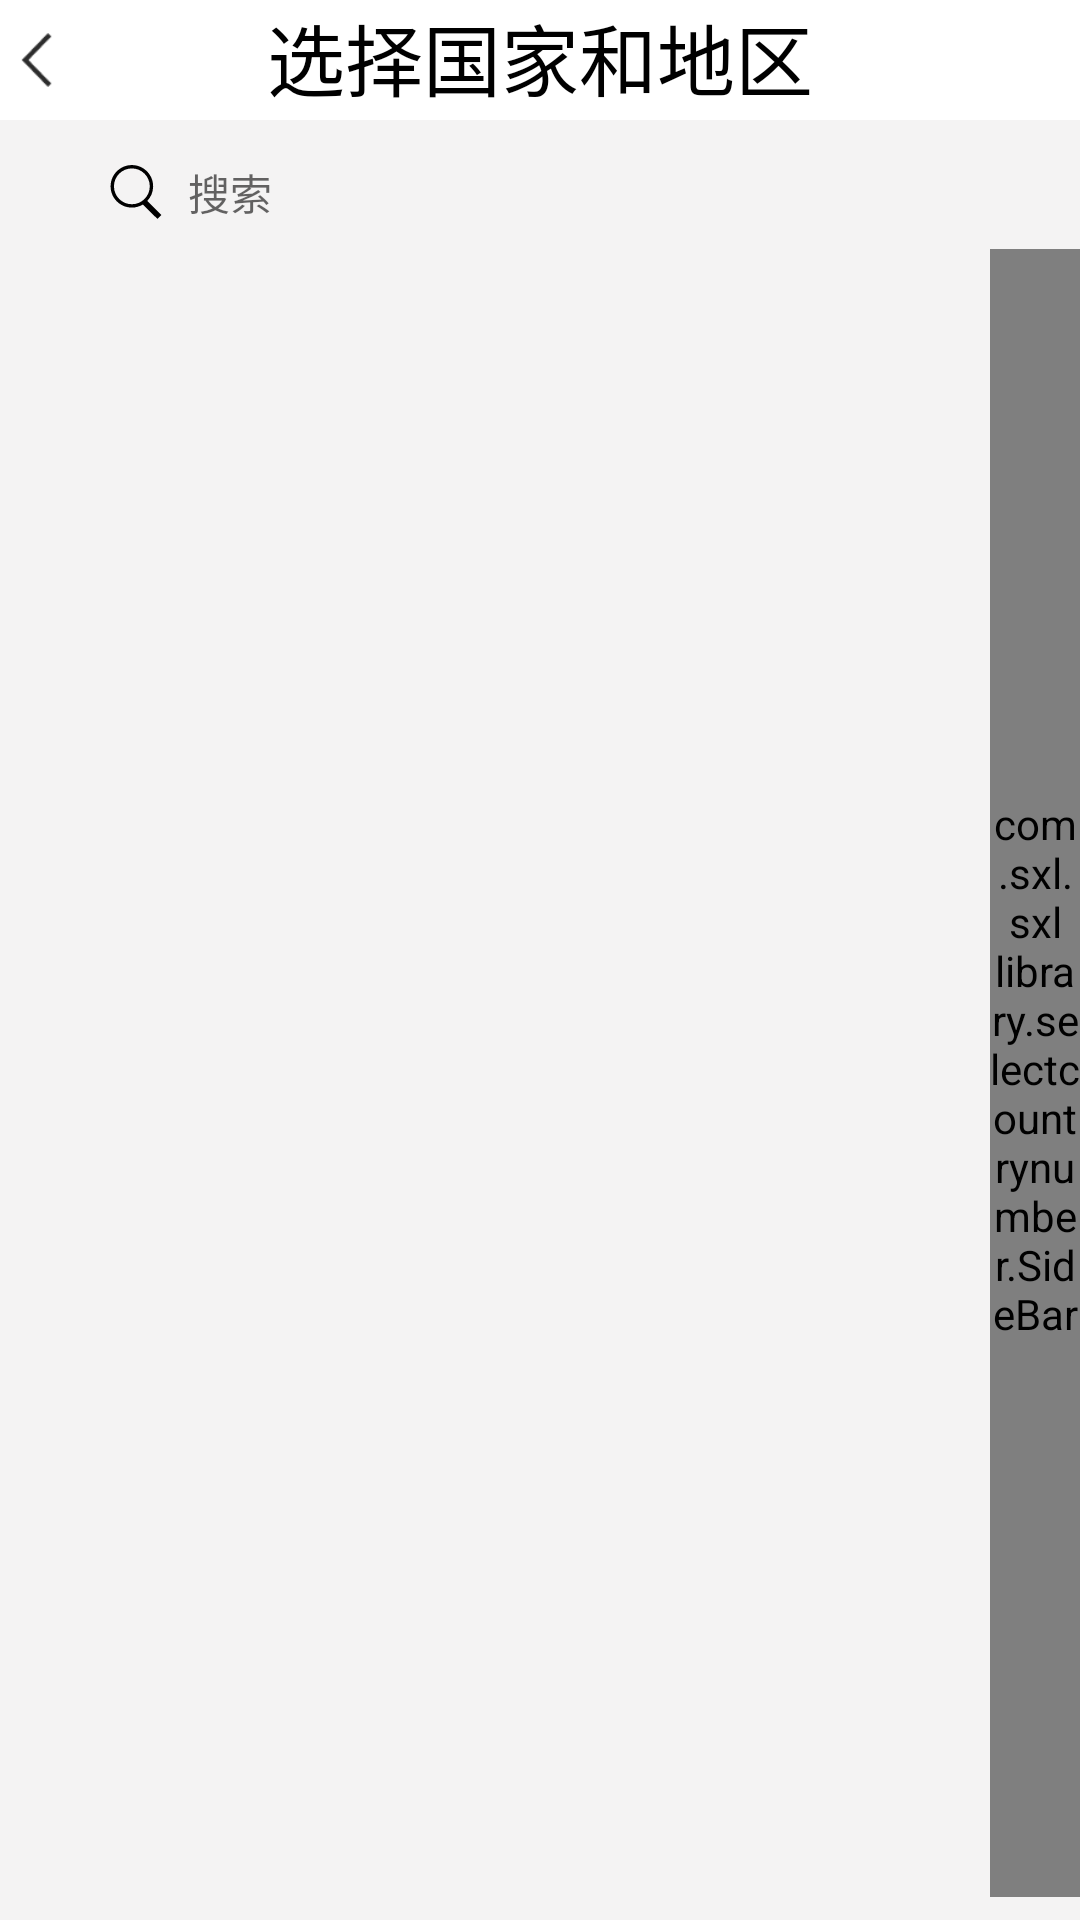

Named icons in this screenshot (1080px×1920px) and their centers, [x,y]:
back: [37,60]
